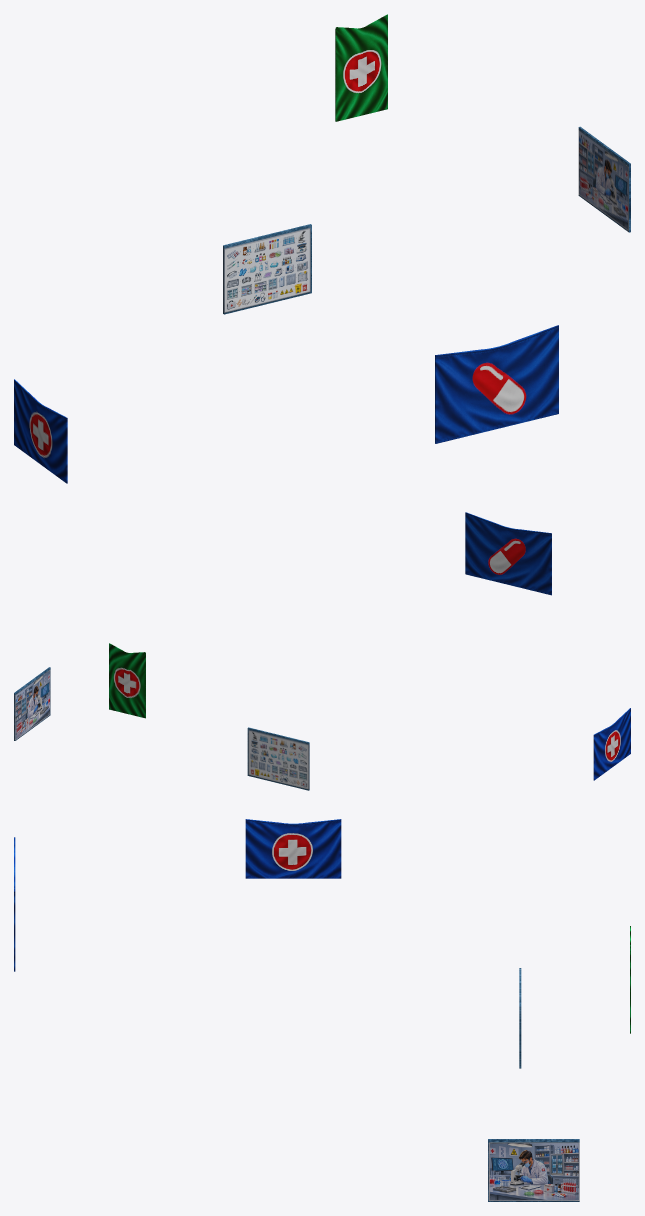
File: Banners.fbx
3 views of the same model, one above another, from view 1: azimuth 30°, elevation 25°; view 2: azimuth 150°, elevation 25°; view 3: azimuth 270°, elevation 25° (orthographic). The views are drawn at different scales.
Parts seen in each view (by area): view 1: Banners; view 2: Banners; view 3: Banners.
Boxes of the visible parts, x1,y1,x2,y2 form: Banners: [14, 14, 630, 483]; Banners: [14, 512, 630, 790]; Banners: [14, 819, 630, 1201].
Size of the model in its own units: 21.07 by 5.77 by 17.81.
